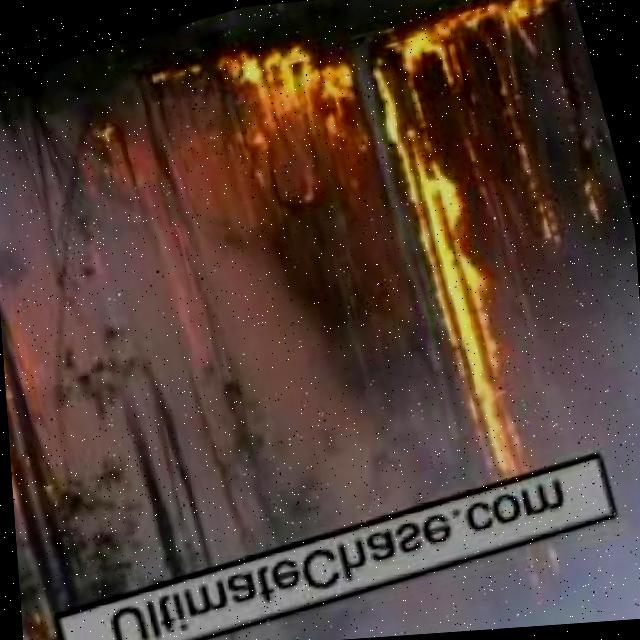fire: (375, 8, 535, 480), (190, 25, 375, 171), (430, 0, 585, 79), (499, 93, 566, 258), (0, 326, 63, 498), (80, 104, 126, 161), (574, 160, 606, 228), (26, 615, 80, 640)
